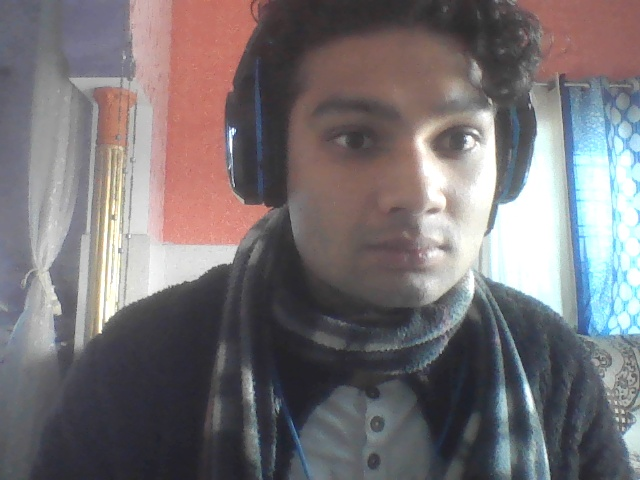real: (240, 0, 526, 406)
